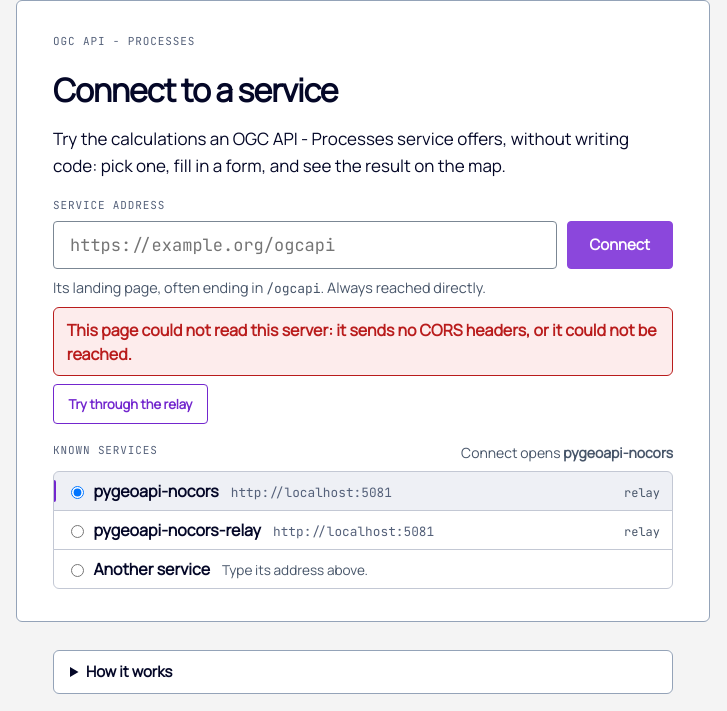
Test case: offers the relay's endpoint of the same address, and connects to it on a click
What coordinates should you click on to do the following:
click the button "Try through the relay"
I would click on:
 (130, 404)
Its box is 53,384 -> 208,424.
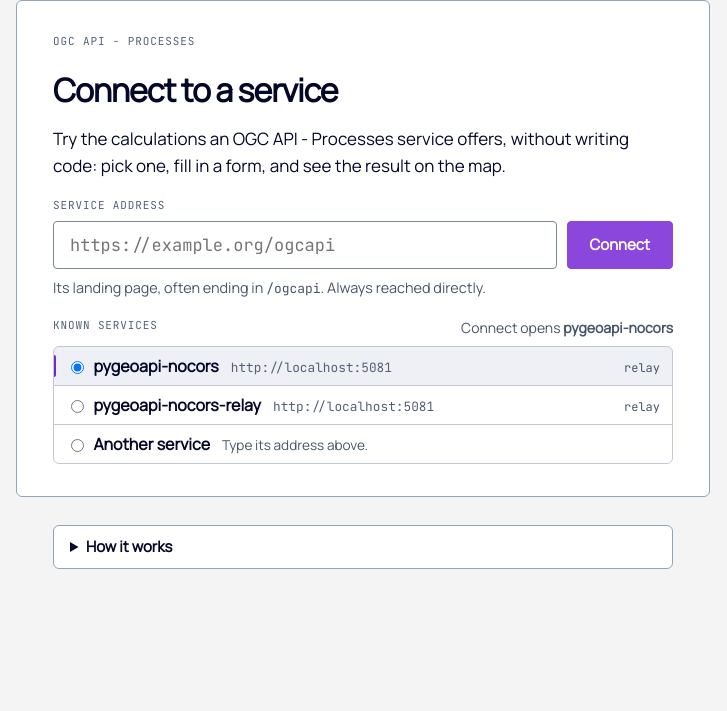
Expected: the message with class "error-box" is gone
